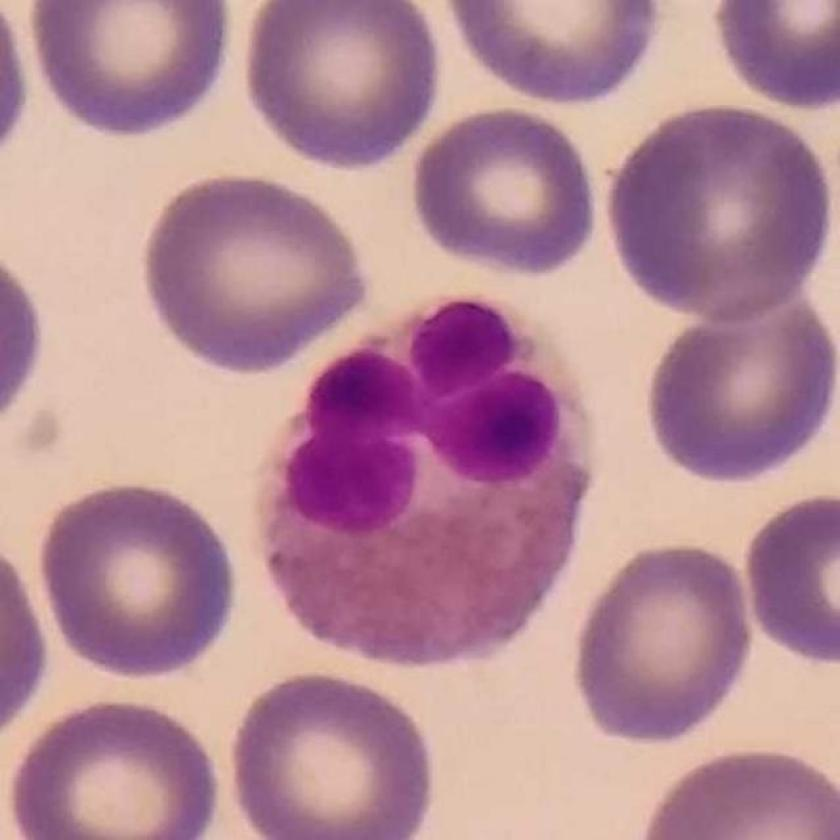eosinophil: (260, 294, 592, 672)
